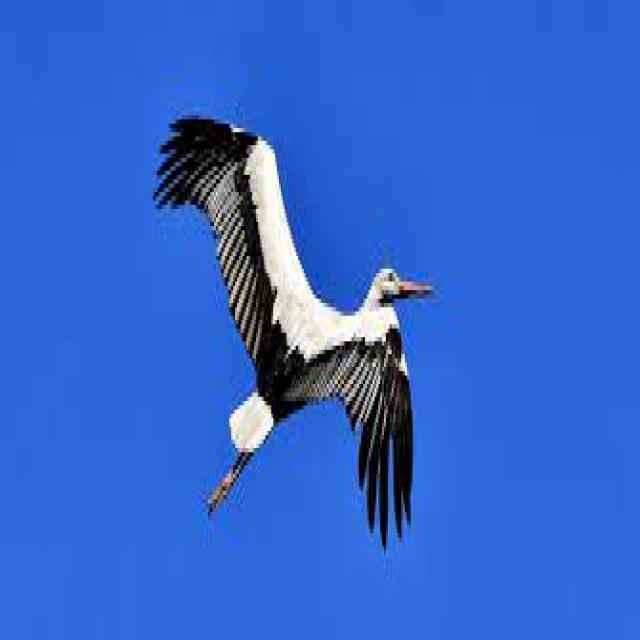birds: (153, 115, 436, 550)
